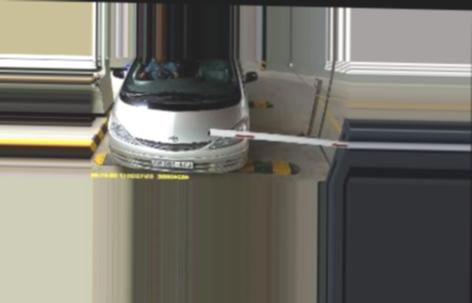License_Plate: (150, 158, 194, 171)
